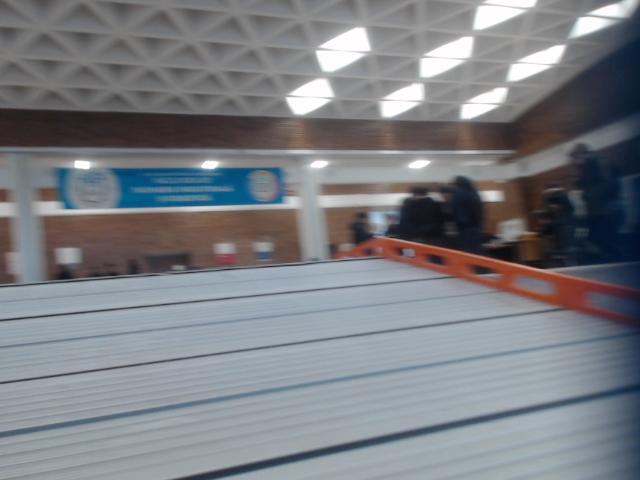rampUp: (0, 239, 639, 479)
